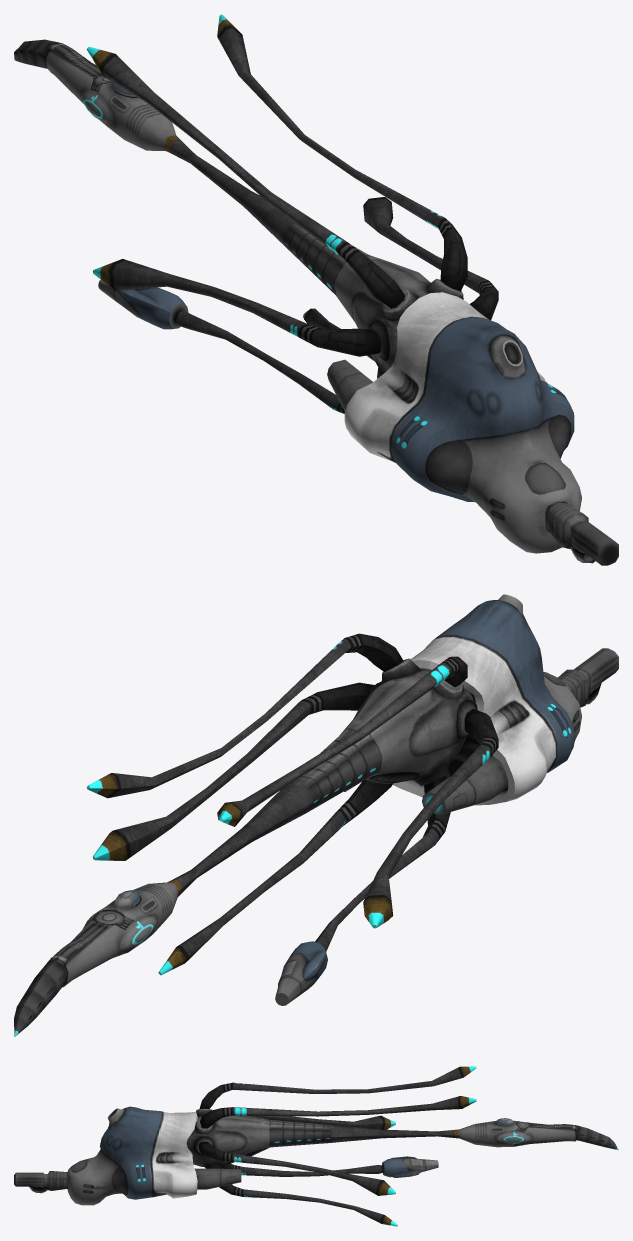
The model's file is 90622_lite.glb.
3 renders of one model, top to bottom at view 1: azimuth 30°, elevation 25°; view 2: azimuth 150°, elevation 25°; view 3: azimuth 270°, elevation 25°, orthographic. The views are drawn at different scales.
Visible parts, largest first — view 1: ship; view 2: ship; view 3: ship.
Boxes of the visible parts, bbox=[...] form: ship: bbox=[14, 14, 618, 565]; ship: bbox=[14, 594, 618, 1036]; ship: bbox=[14, 1066, 618, 1226].
Bounding box in the file's own units: 0.2117 × 0.1784 × 0.7699.
1 material, 1 textured.
